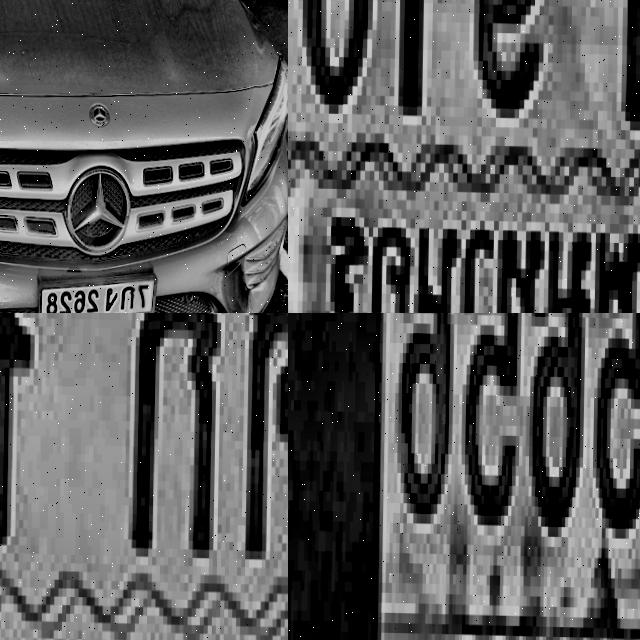license-plate: (288, 313, 640, 640), (288, 0, 640, 313), (0, 313, 288, 640), (33, 258, 159, 313)
